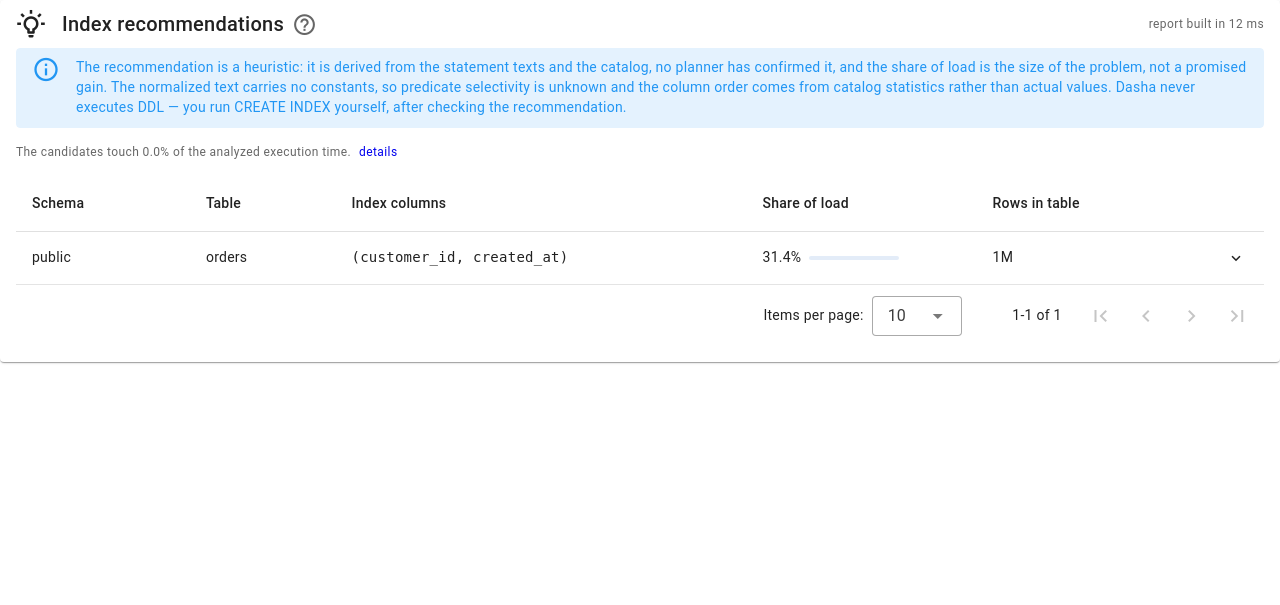
IndexAdvisorSection › keeps a queryid past Number.MAX_SAFE_INTEGER intact
The width and height of the screenshot is (1280, 605).
Click the 1st button: (1236, 258) [1216,238,1256,278]
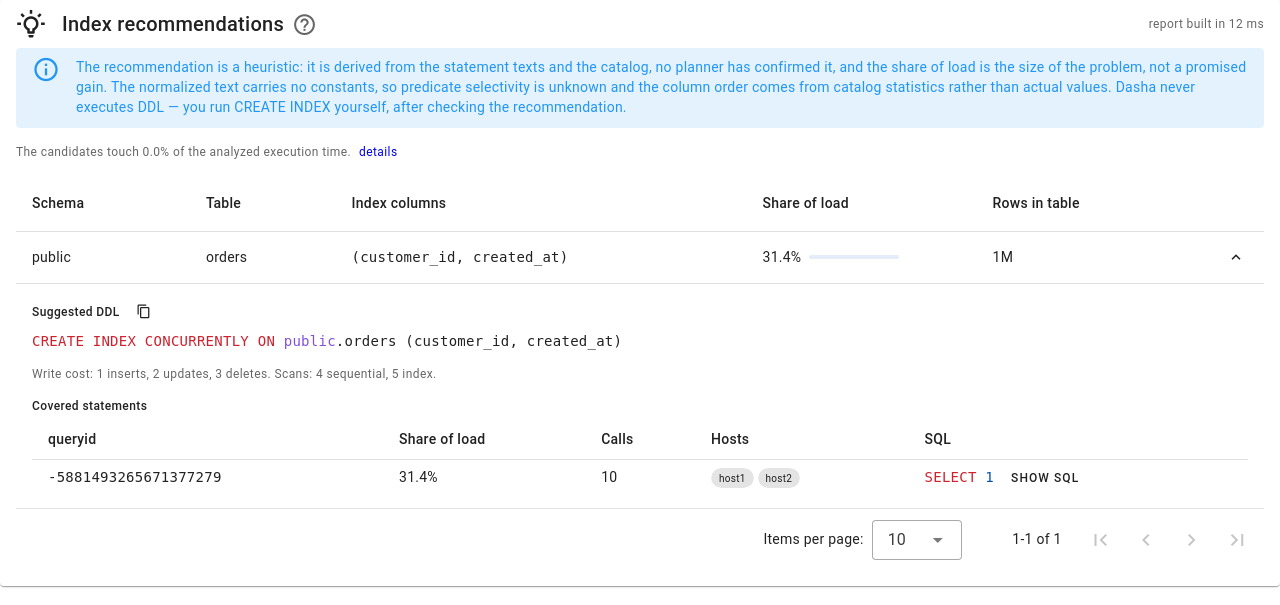
Expected: the text "-5881493265671377279" is shown, [48,469,222,485]
